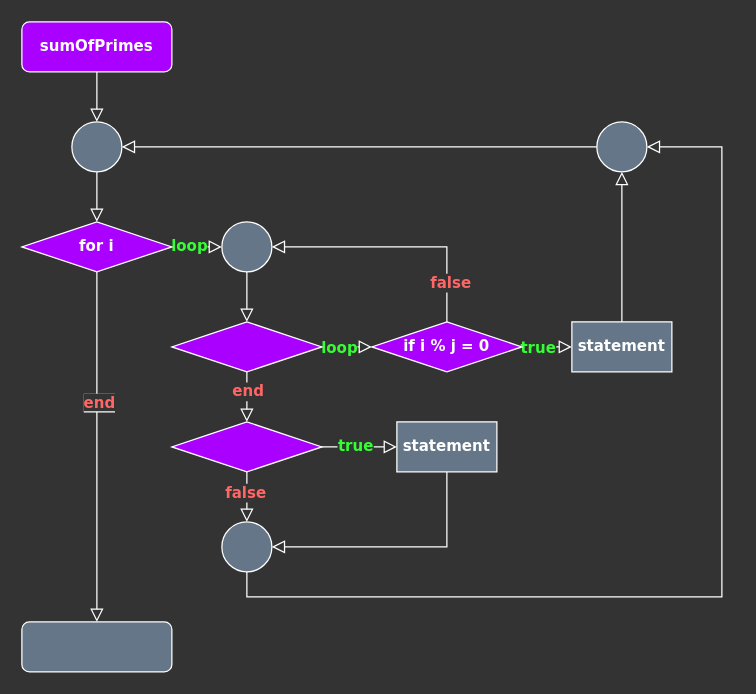
This 756x694 diagram has some shape labels left out. Each missing label, with the centre of its shape:
for j: (246,346)
if isPrime: (246,446)
return: (96,646)
